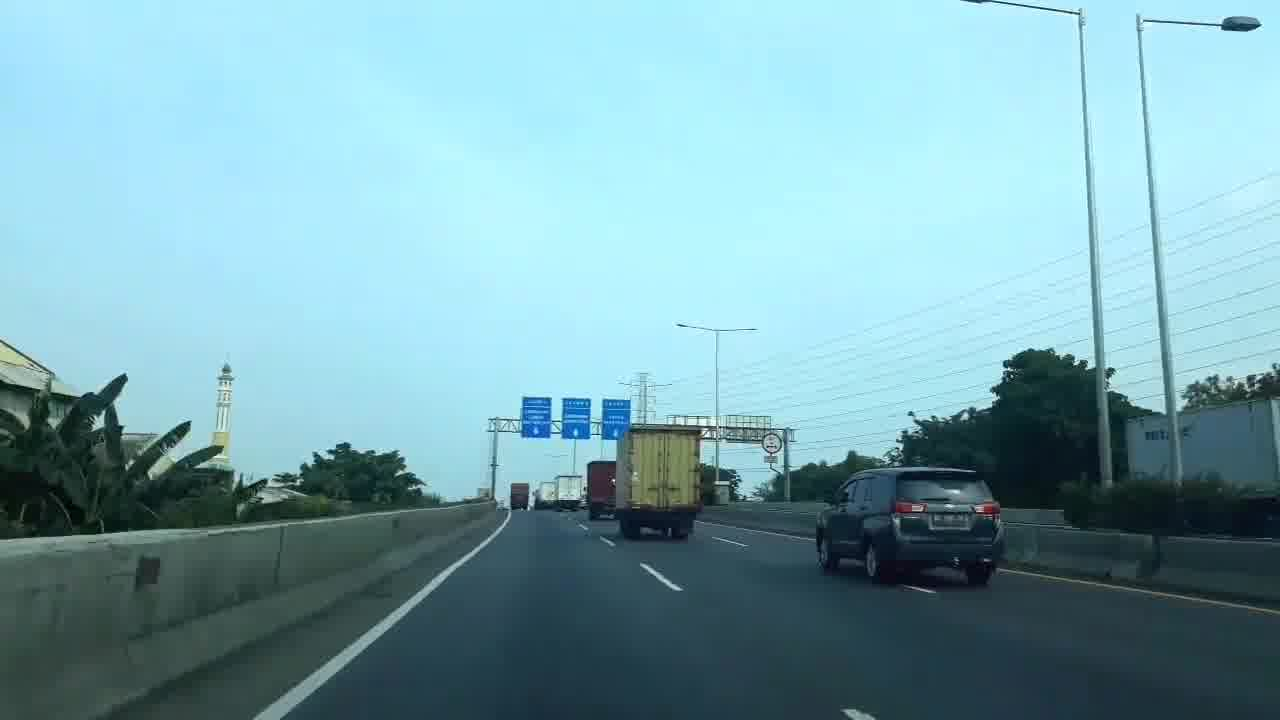plate_positive: (932, 513, 967, 526)
